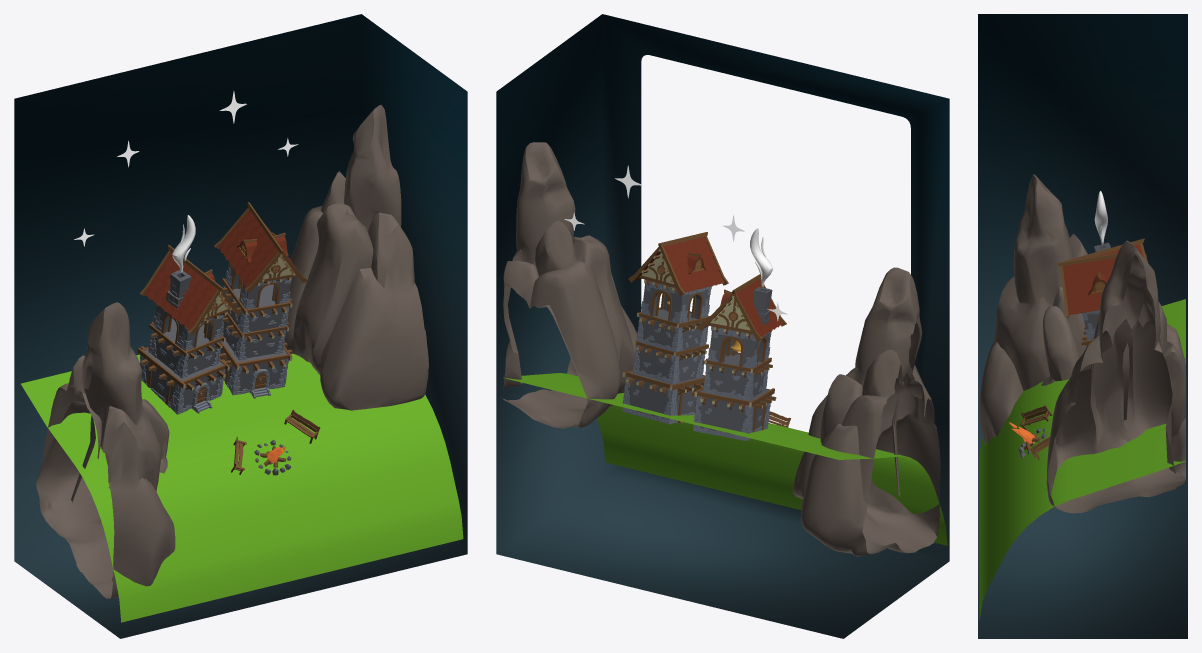
File: 16_Belltowers.glb
3 views of the same model, side by side, from view 1: azimuth 30°, elevation 25°; view 2: azimuth 150°, elevation 25°; view 3: azimuth 270°, elevation 25° (orthographic).
Parts seen in each view (by area): view 1: 16_Belltowers, 16_Belltowers_bg; view 2: 16_Belltowers_bg, 16_Belltowers; view 3: 16_Belltowers_bg, 16_Belltowers.
Part boxes in pixels (x1=…): 16_Belltowers: x1=21, y1=91, x2=463, y2=622; 16_Belltowers_bg: x1=14, y1=14, x2=467, y2=638; 16_Belltowers_bg: x1=496, y1=14, x2=949, y2=638; 16_Belltowers: x1=501, y1=142, x2=947, y2=556; 16_Belltowers_bg: x1=978, y1=14, x2=1187, y2=638; 16_Belltowers: x1=979, y1=174, x2=1186, y2=620.
Bounding box in the file's own units: 2.76 × 3.51 × 1.46.
Materials: 2 (2 with a texture image).
